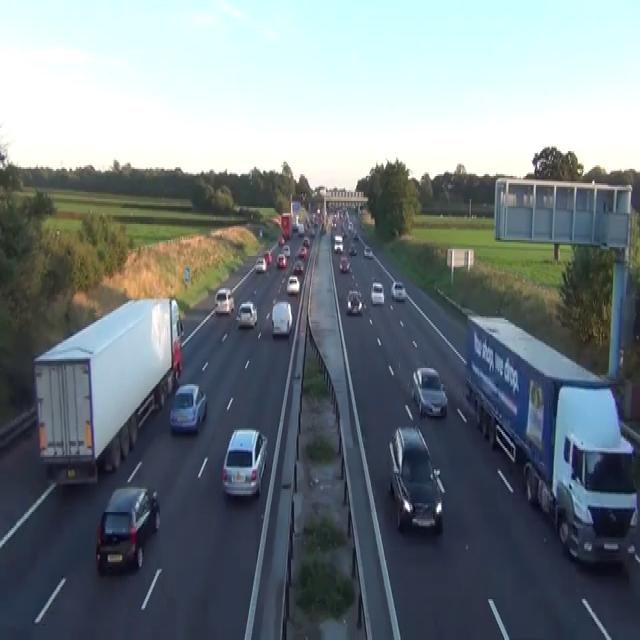Car: (388, 425, 444, 533), (95, 486, 160, 574), (221, 427, 268, 498), (169, 382, 207, 434), (411, 366, 447, 418), (271, 300, 292, 336), (214, 286, 234, 315), (235, 301, 257, 327), (346, 290, 362, 314), (390, 279, 406, 301), (370, 281, 384, 304), (286, 274, 300, 293), (339, 256, 351, 272), (255, 256, 266, 272), (333, 235, 343, 252), (292, 260, 304, 274), (276, 252, 286, 266), (363, 244, 372, 258), (298, 245, 307, 258), (348, 244, 357, 256), (263, 251, 272, 263), (282, 244, 290, 256), (297, 222, 304, 235), (320, 222, 326, 235), (278, 235, 285, 245), (302, 237, 309, 247), (292, 220, 298, 230), (309, 226, 315, 236), (352, 231, 358, 240), (348, 220, 353, 230), (342, 230, 347, 237), (259, 228, 262, 236)
Truck: (464, 313, 638, 565), (32, 295, 183, 485), (280, 212, 292, 238)
